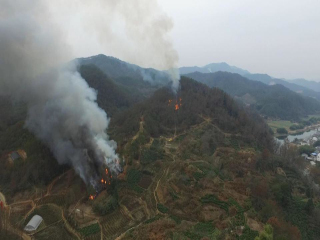smoke: (1, 2, 186, 191)
